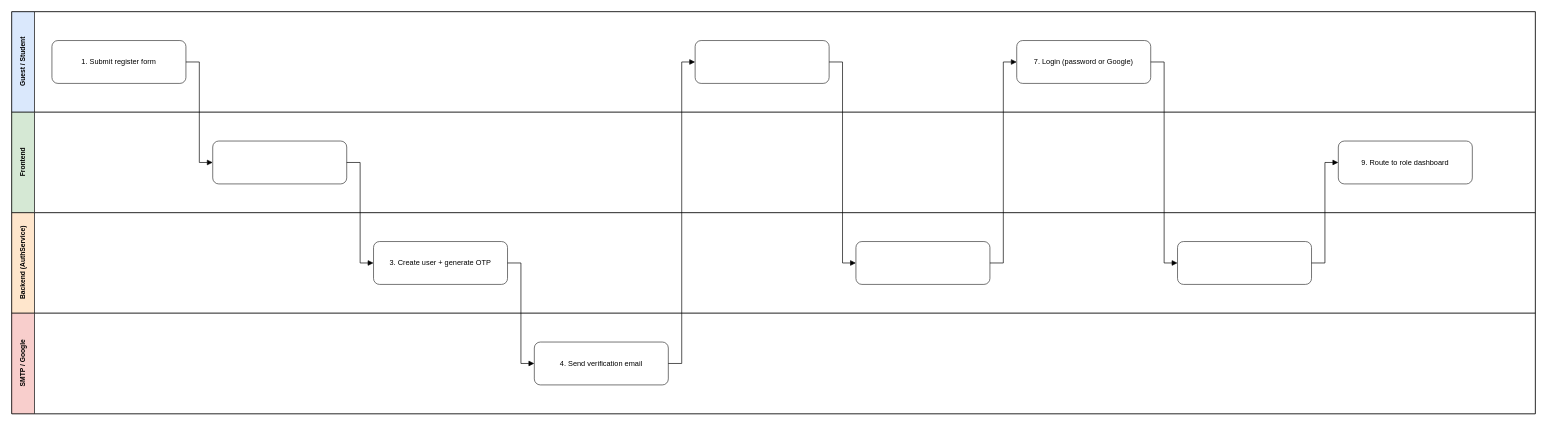
Image size: 1547x425. Some labels were removed from this diagram. The centre of each missing label's shape, as x and y in pixels:
2. POST /api/auth/register: point 279,162
5. Enter OTP to verify email: point 761,61
6. Activate account: point 922,262
8. Validate credentials, issue JWT: point 1244,262
